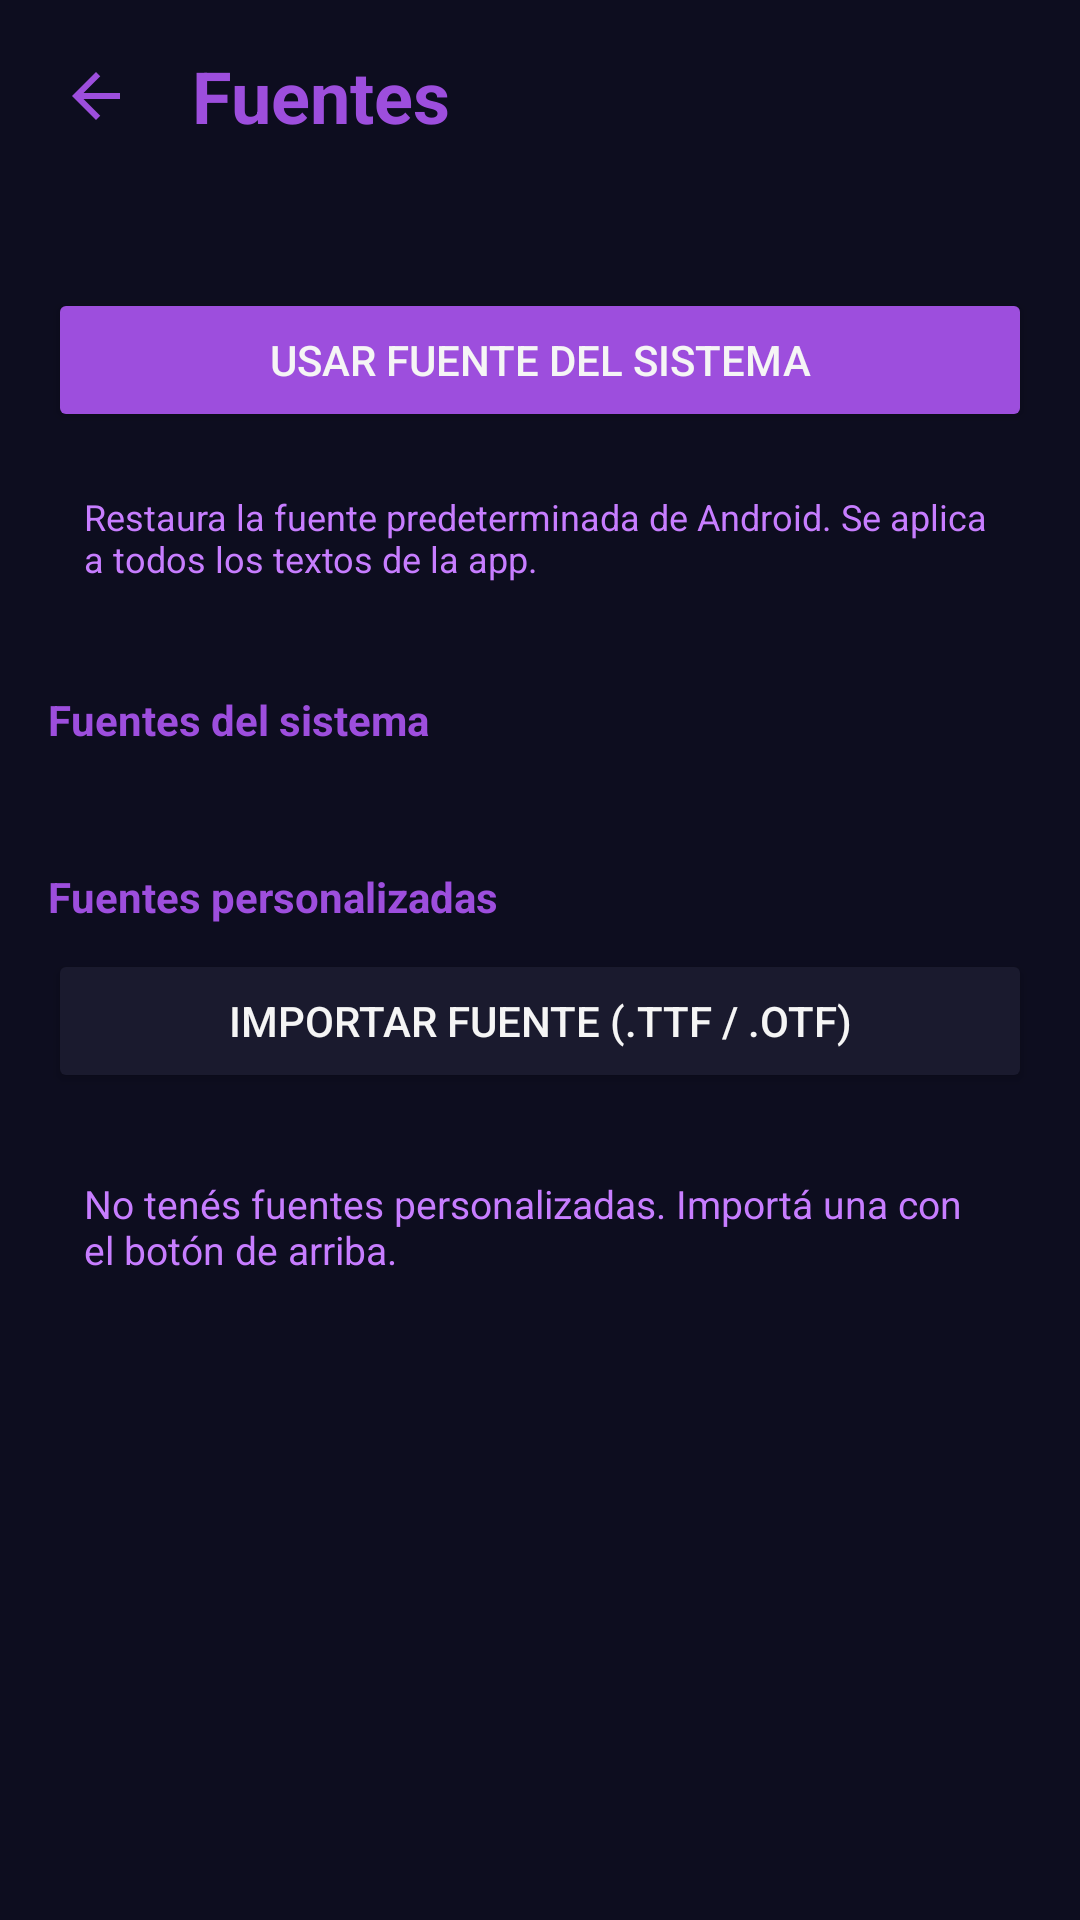

Icon click points for this 1080x1920 phone screenshot, format point (x, y):
Atrás: point (96, 96)
